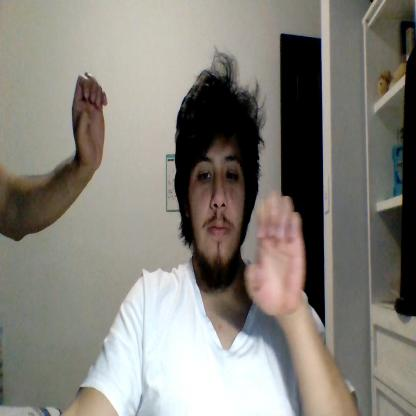E: (244, 192, 305, 314), (73, 70, 108, 167)
